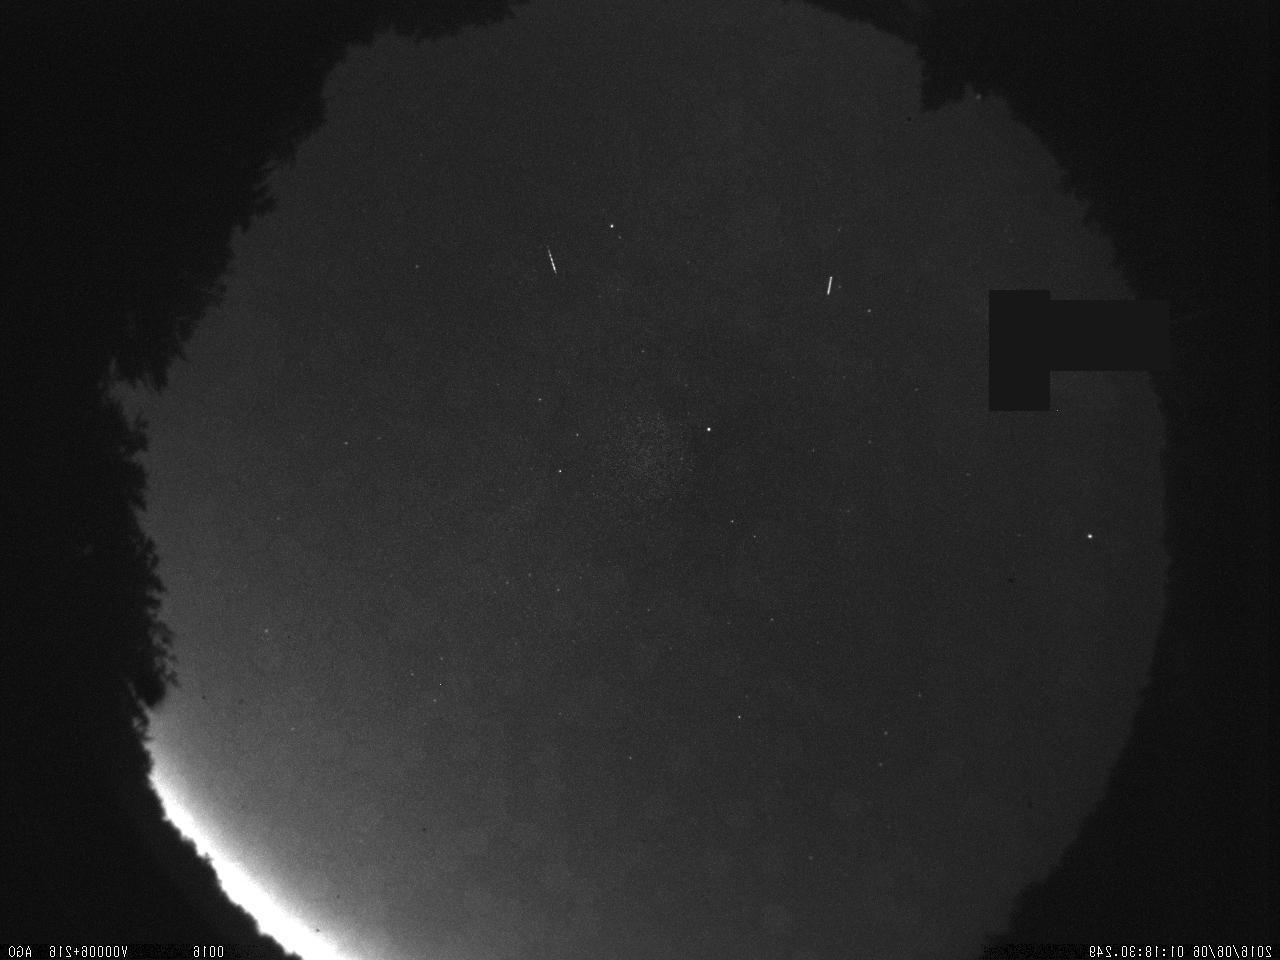meteor: (541, 237, 559, 285)
satelite: (821, 271, 840, 302)
